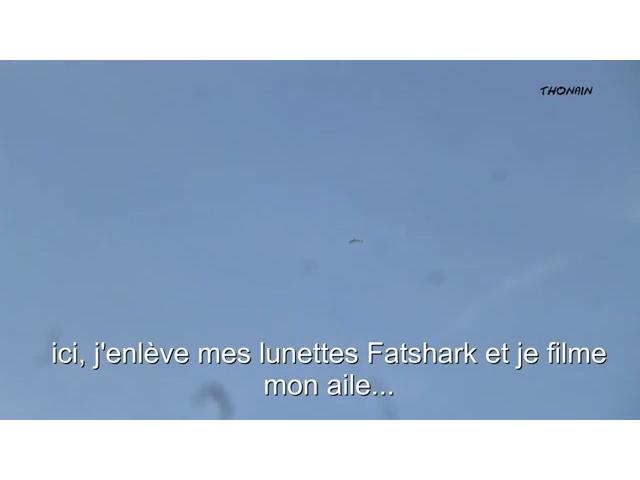Anti-Drone: (342, 238, 368, 248)
